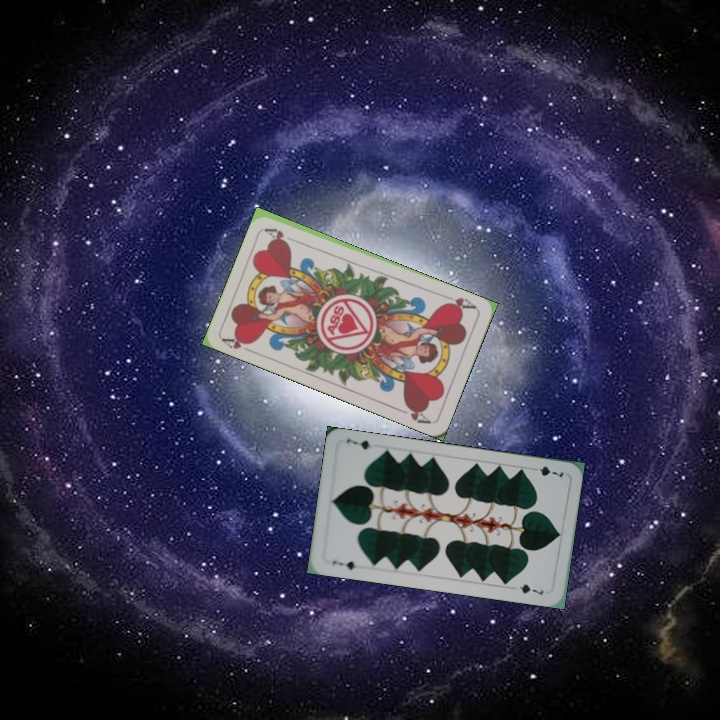G7: (527, 462, 566, 480), (328, 557, 358, 573)
HA: (219, 331, 258, 356), (440, 291, 479, 313)
